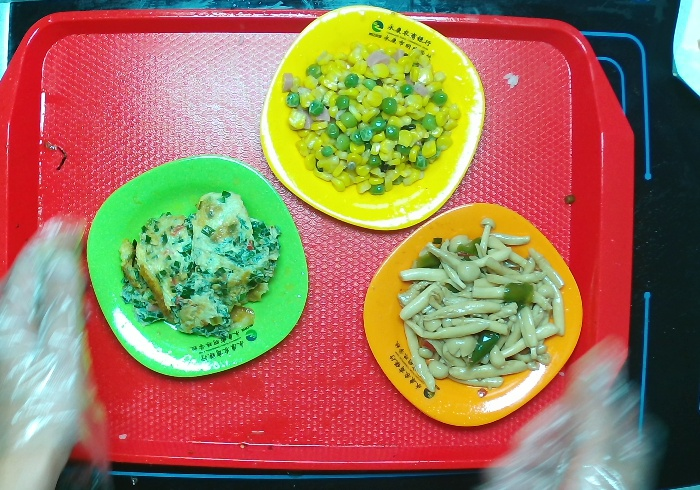YKMZ-Huang_Se_Fang_Die: (257, 4, 485, 235)
YKMZ-Ju_Se_Fang_Die: (360, 200, 584, 430)
YKMZ-Lv_Se_Fang_Die: (85, 154, 311, 379)
